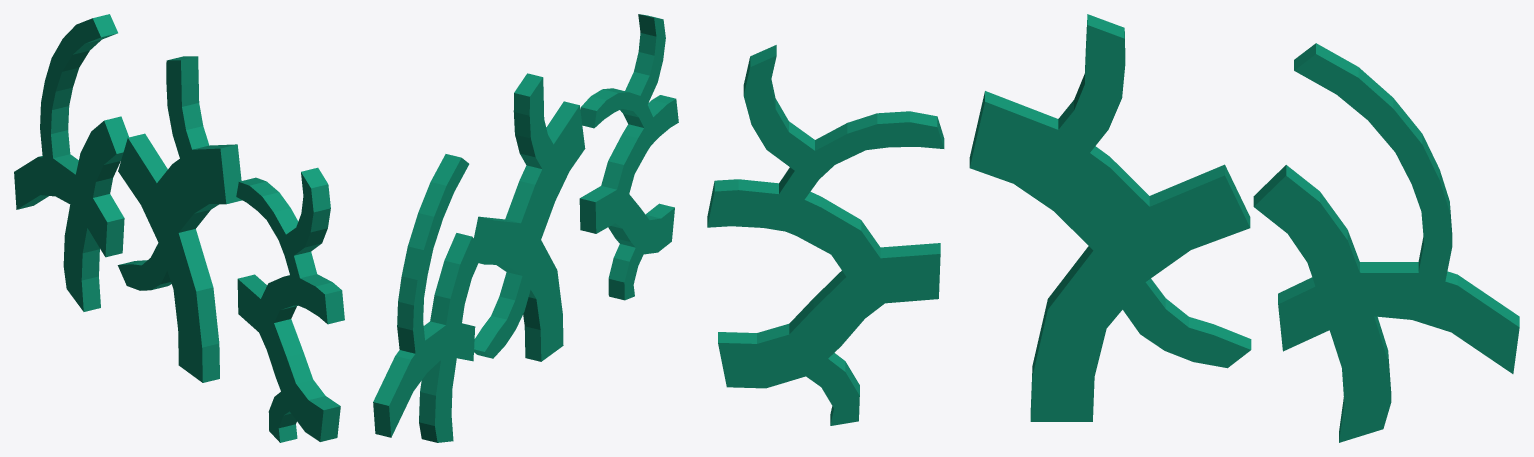
Rendered from window.fbx.
3 views of the same model, side by side, from view 1: azimuth 30°, elevation 25°; view 2: azimuth 150°, elevation 25°; view 3: azimuth 270°, elevation 25° (orthographic). The views are drawn at different scales.
Parts seen in each view (by area): view 1: window; view 2: window; view 3: window.
Part boxes in pixels (box(x1,y1,x2,y2)): window: box(14, 14, 344, 442); window: box(373, 14, 678, 442); window: box(707, 14, 1519, 442).
Bounding box in the file's own units: 7.58 × 136 × 239.
